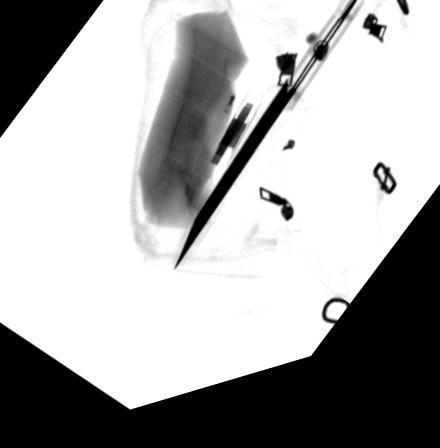Knife: (170, 7, 367, 280)
